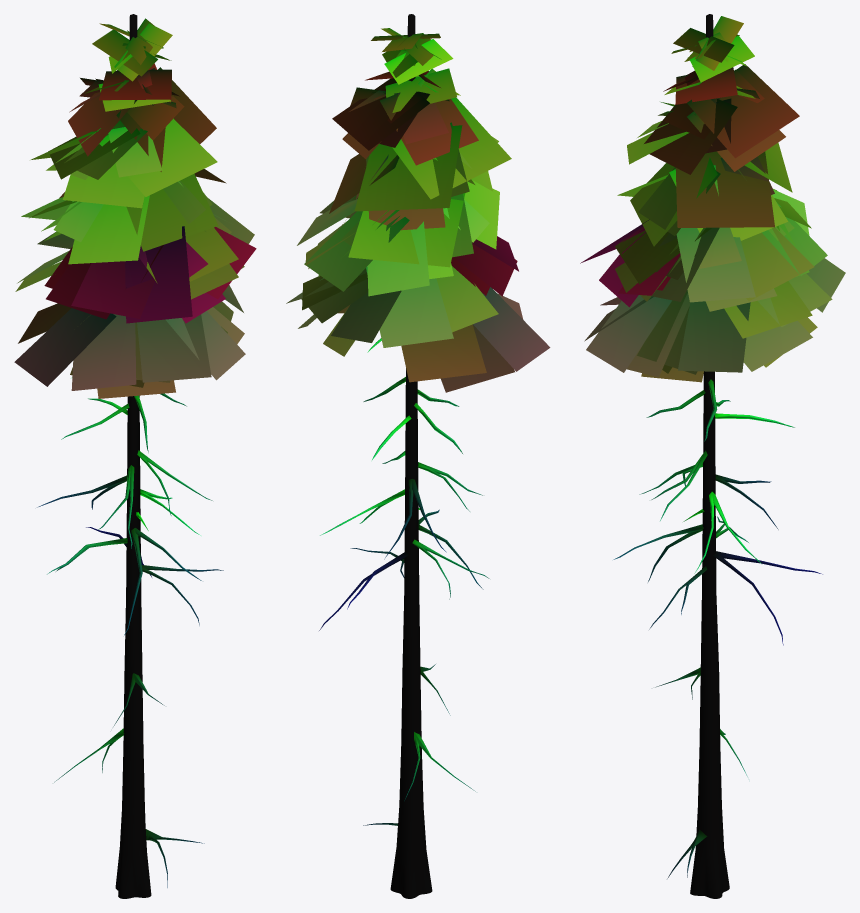
File: M_Pine_4_12.fbx
The picture shows the model from 3 angles, left to right: view 1: azimuth 30°, elevation 25°; view 2: azimuth 150°, elevation 25°; view 3: azimuth 270°, elevation 25°; orthographic projection.
Visible parts, largest first — view 1: Tree_12; view 2: Tree_12; view 3: Tree_12.
Boxes of the visible parts, box(x1,y1,x2,y2) form: Tree_12: box(14, 14, 256, 898); Tree_12: box(286, 14, 550, 898); Tree_12: box(580, 14, 845, 898).
Bounding box in the file's own units: 878 × 3307 × 912.
